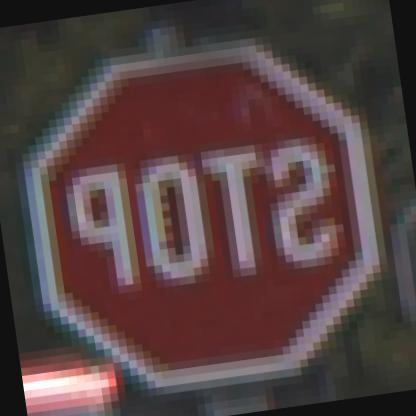stop: (6, 12, 401, 415)
